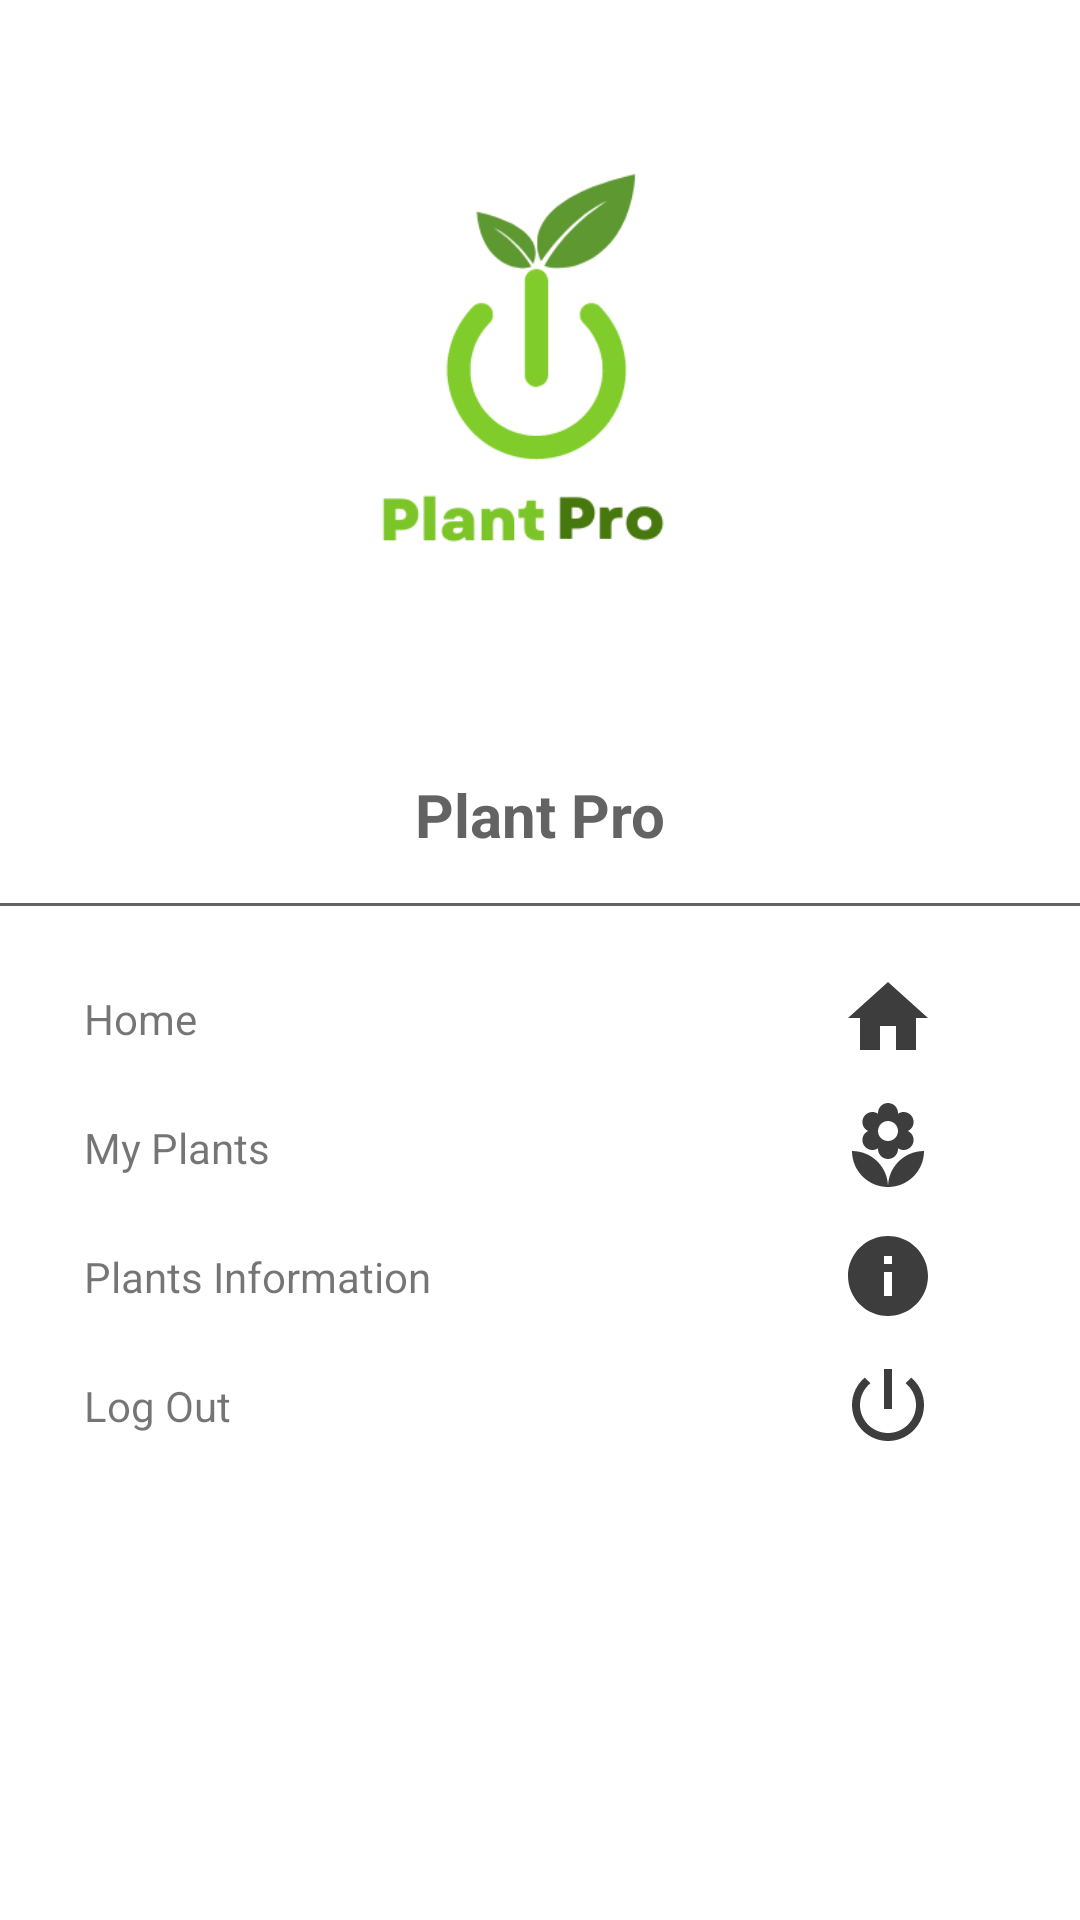

Where icons sit on this 1080×1920 app screen, as (x1,y1,x2,y2):
florist: (852,1103,924,1187)
